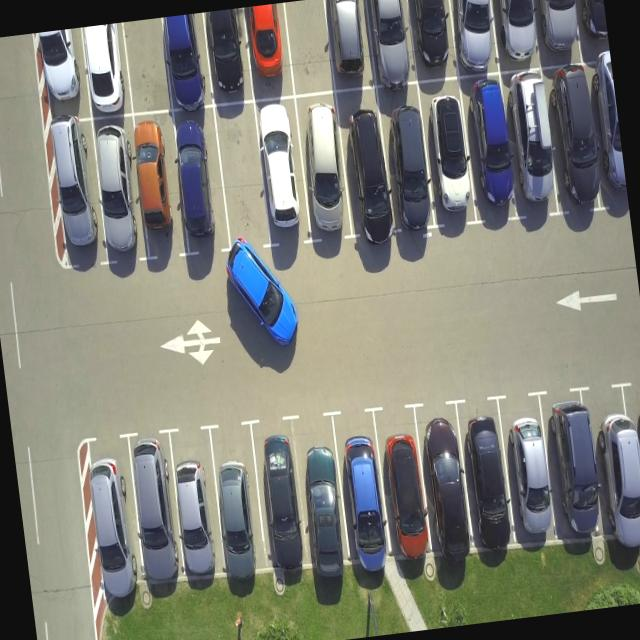car: (79, 430, 147, 608), (492, 388, 564, 552), (328, 404, 396, 576), (410, 396, 478, 567), (246, 412, 314, 576), (39, 115, 108, 268), (162, 422, 227, 584), (166, 104, 232, 258), (292, 90, 356, 247), (497, 70, 565, 216), (542, 56, 602, 218), (207, 416, 269, 572), (373, 397, 432, 560), (416, 82, 482, 227), (125, 110, 187, 264), (456, 393, 516, 552), (540, 384, 598, 548), (251, 94, 312, 248), (584, 394, 640, 559), (335, 91, 397, 238), (378, 92, 438, 232), (294, 410, 348, 564), (464, 74, 516, 224), (129, 430, 178, 586), (91, 109, 140, 259), (584, 64, 628, 207), (75, 22, 134, 119), (240, 2, 294, 100), (159, 12, 214, 108), (200, 8, 252, 104), (323, 0, 375, 89), (404, 0, 461, 79), (447, 0, 504, 76), (367, 0, 415, 83), (41, 28, 86, 116), (528, 0, 587, 66), (493, 0, 540, 75), (571, 0, 609, 64)
free: (210, 100, 273, 252), (281, 0, 337, 95), (118, 18, 173, 114)
